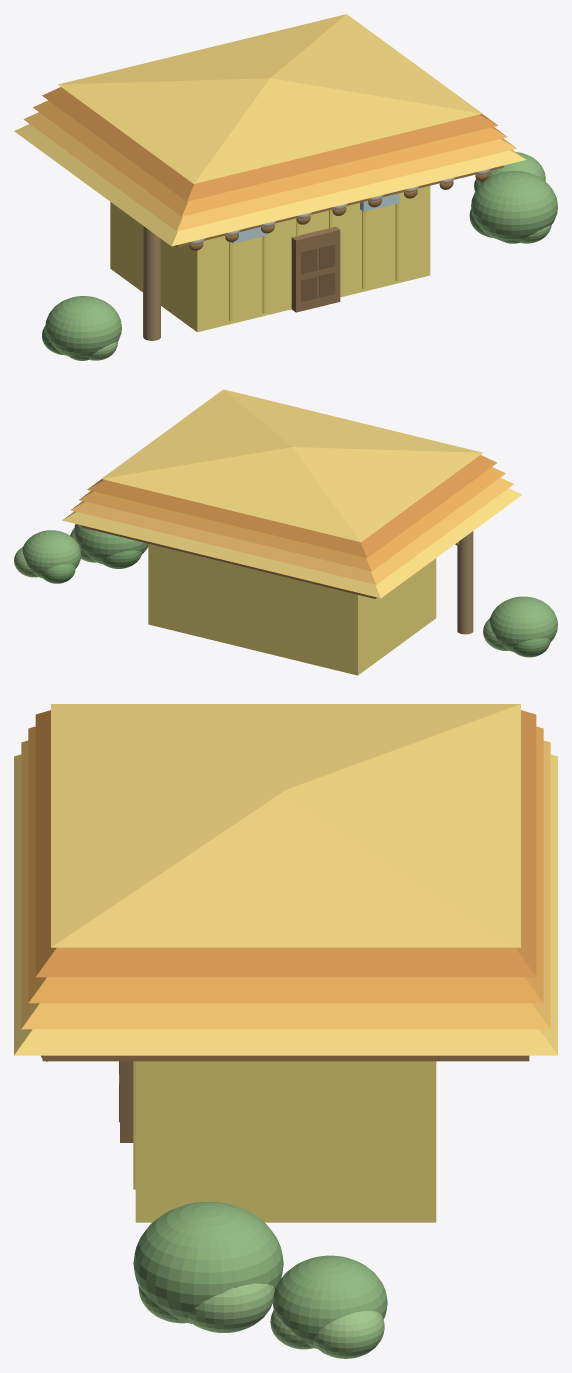
File: Casa53.glb
3 renders of one model, top to bottom at view 1: azimuth 30°, elevation 25°; view 2: azimuth 150°, elevation 25°; view 3: azimuth 270°, elevation 25°, orthographic. The views are drawn at different scales.
Visible parts, largest first — view 1: Casa1_Techo_Cumbrera, Casa1_Paredes, Casa1_Techo_Capa3, Casa1_Techo_Capa0, Casa1_Techo_Capa1, Casa1_Techo_Capa2, Casa1_Arbusto1_0, Casa1_Arbusto3_0, Casa1_Puerta, Casa1_Poste, Casa1_Arbusto2_0, Casa1_Fascia; view 2: Casa1_Techo_Cumbrera, Casa1_Paredes, Casa1_Techo_Capa3, Casa1_Techo_Capa0, Casa1_Techo_Capa1, Casa1_Techo_Capa2, Casa1_Arbusto3_0, Casa1_Arbusto2_0, Casa1_Poste, Casa1_Arbusto1_0, Casa1_Fascia, Casa1_Arbusto3_2 (+2 smaller); view 3: Casa1_Techo_Cumbrera, Casa1_Paredes, Casa1_Techo_Capa3, Casa1_Techo_Capa0, Casa1_Techo_Capa1, Casa1_Techo_Capa2, Casa1_Arbusto1_0, Casa1_Arbusto2_0, Casa1_Fascia, Casa1_Arbusto1_1, Casa1_Arbusto2_1, Casa1_Puerta.
Boxes of the visible parts, x1=… form: Casa1_Techo_Cumbrera: x1=58, y1=14, x2=482, y2=183; Casa1_Paredes: x1=110, y1=186, x2=430, y2=332; Casa1_Techo_Capa3: x1=42, y1=87, x2=498, y2=201; Casa1_Techo_Capa0: x1=14, y1=124, x2=525, y2=246; Casa1_Techo_Capa1: x1=23, y1=112, x2=516, y2=231; Casa1_Techo_Capa2: x1=33, y1=100, x2=507, y2=216; Casa1_Arbusto1_0: x1=471, y1=171, x2=557, y2=241; Casa1_Arbusto3_0: x1=45, y1=296, x2=121, y2=356; Casa1_Puerta: x1=291, y1=226, x2=340, y2=312; Casa1_Poste: x1=143, y1=226, x2=160, y2=340; Casa1_Arbusto2_0: x1=480, y1=152, x2=545, y2=183; Casa1_Fascia: x1=175, y1=165, x2=503, y2=247; Casa1_Techo_Cumbrera: x1=101, y1=389, x2=482, y2=542; Casa1_Paredes: x1=148, y1=544, x2=436, y2=675; Casa1_Techo_Capa3: x1=87, y1=455, x2=497, y2=557; Casa1_Techo_Capa0: x1=62, y1=488, x2=522, y2=598; Casa1_Techo_Capa1: x1=70, y1=477, x2=513, y2=584; Casa1_Techo_Capa2: x1=79, y1=467, x2=505, y2=571; Casa1_Arbusto3_0: x1=489, y1=596, x2=557, y2=652; Casa1_Arbusto2_0: x1=22, y1=530, x2=81, y2=578; Casa1_Poste: x1=457, y1=531, x2=473, y2=634; Casa1_Arbusto1_0: x1=74, y1=524, x2=148, y2=564; Casa1_Fascia: x1=82, y1=525, x2=377, y2=598; Casa1_Arbusto3_2: x1=512, y1=638, x2=550, y2=657; Casa1_Techo_Cumbrera: x1=51, y1=704, x2=520, y2=947; Casa1_Paredes: x1=135, y1=1061, x2=436, y2=1222; Casa1_Techo_Capa3: x1=35, y1=710, x2=536, y2=977; Casa1_Techo_Capa0: x1=14, y1=754, x2=557, y2=1055; Casa1_Techo_Capa1: x1=21, y1=740, x2=550, y2=1029; Casa1_Techo_Capa2: x1=28, y1=726, x2=543, y2=1003; Casa1_Arbusto1_0: x1=133, y1=1201, x2=283, y2=1323; Casa1_Arbusto2_0: x1=272, y1=1255, x2=387, y2=1348; Casa1_Fascia: x1=42, y1=1055, x2=529, y2=1061; Casa1_Arbusto1_1: x1=188, y1=1283, x2=274, y2=1332; Casa1_Arbusto2_1: x1=313, y1=1311, x2=384, y2=1358; Casa1_Puerta: x1=120, y1=1061, x2=133, y2=1142.
Size of the model in its own units: 4.91 by 1.7 by 2.46.
